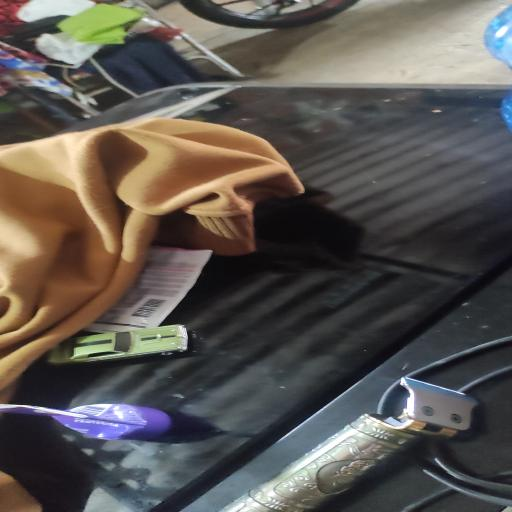Carrito: (48, 324, 188, 364)
